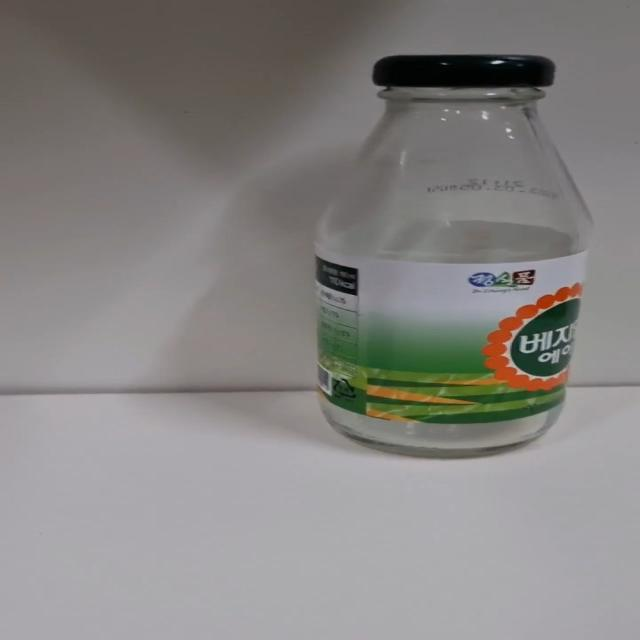Glass: (311, 54, 595, 462)
